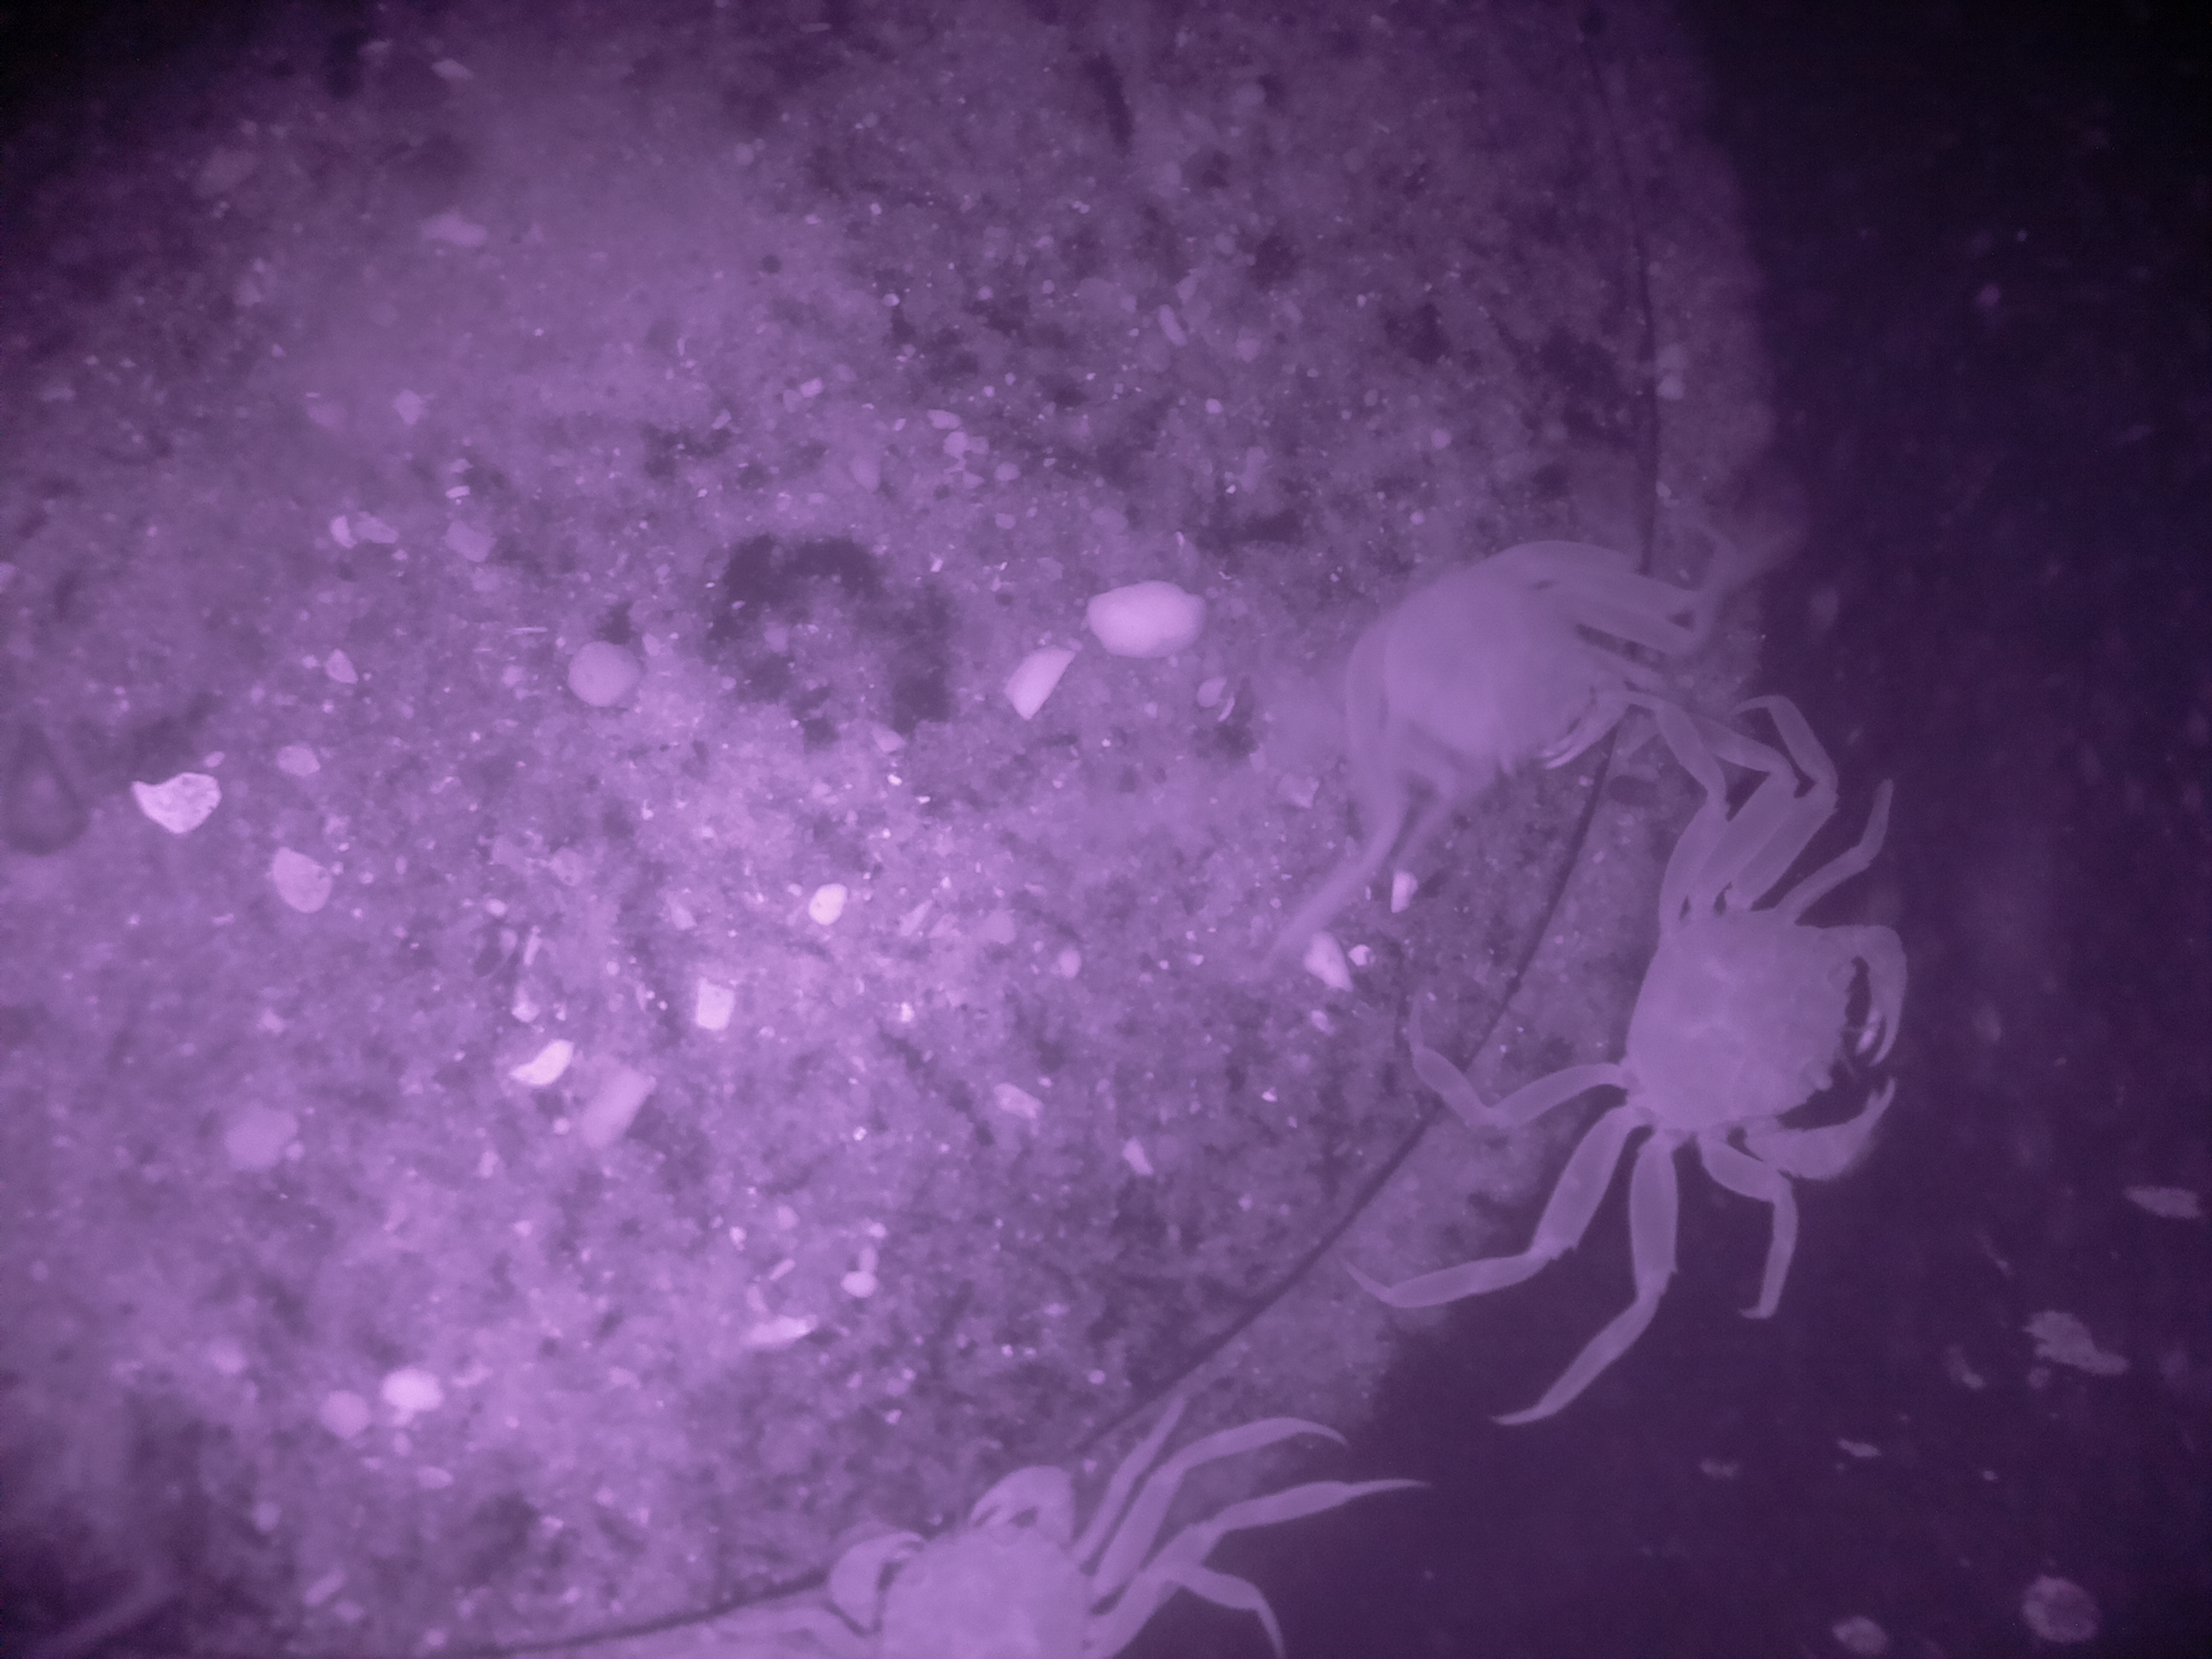Crab: (1507, 802, 1951, 1283), (1160, 502, 1815, 816)
